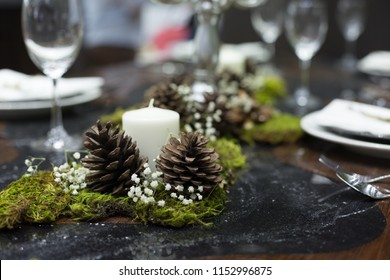Pc: (79, 122, 143, 198), (156, 129, 224, 200)
